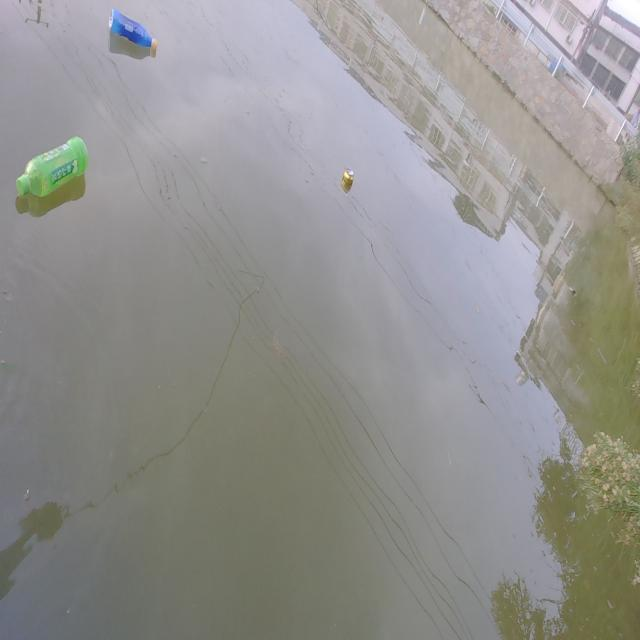bottle: (9, 120, 98, 216), (100, 6, 168, 67)
